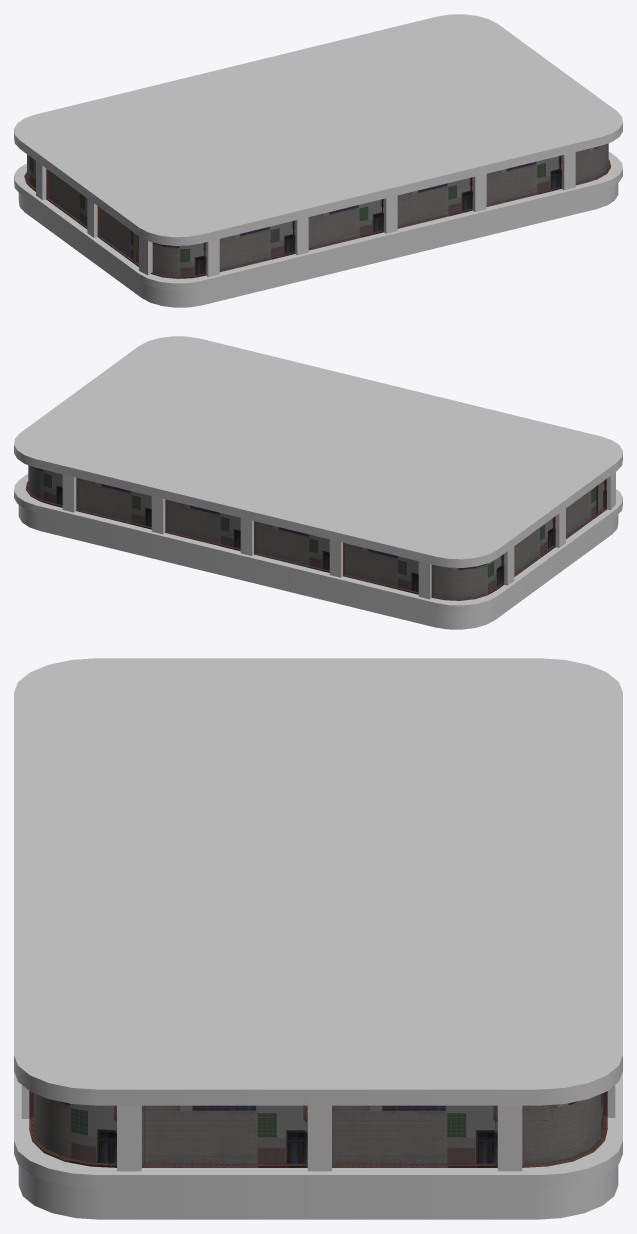
3 views of the same model, one above another, from view 1: azimuth 30°, elevation 25°; view 2: azimuth 150°, elevation 25°; view 3: azimuth 270°, elevation 25° (orthographic). The views are drawn at different scales.
Parts seen in each view (by area): view 1: FZ_005; view 2: FZ_005; view 3: FZ_005.
Part boxes in pixels (x1=…): FZ_005: x1=14, y1=14, x2=622, y2=307; FZ_005: x1=14, y1=336, x2=622, y2=629; FZ_005: x1=14, y1=658, x2=622, y2=1219.
Bounding box in the file's own units: 1479 × 882 × 214.
